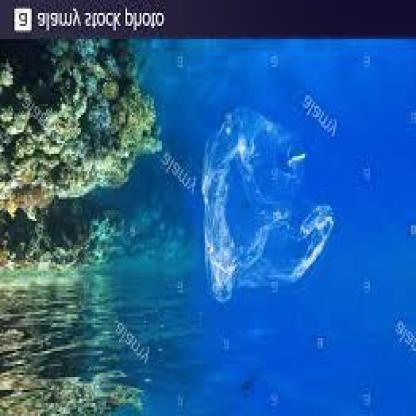pbag: (202, 106, 336, 308)
